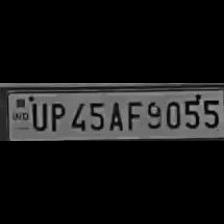0: (163, 97, 181, 129)
4: (68, 98, 86, 132)
5: (200, 97, 220, 129), (86, 97, 104, 130), (182, 96, 198, 130)
9: (144, 98, 162, 130)
A: (106, 98, 124, 132)
F: (124, 97, 142, 131)
P: (46, 98, 66, 132)
U: (29, 99, 47, 131)
